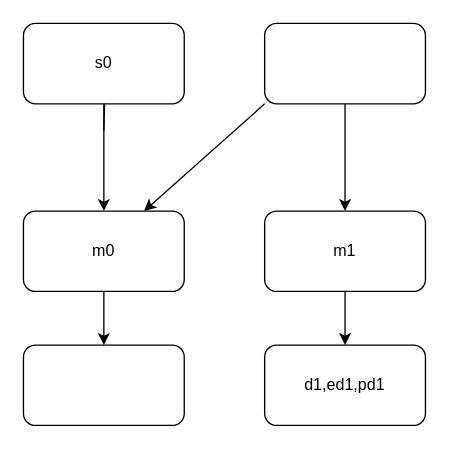
The diagram is 449 pixels wide and 449 high, and some of its shapes have lost their labels. Each missing label, with the centre of its shape:
"d0,ed0,pd0" goes at [103,384].
"s1" goes at [344,63].
